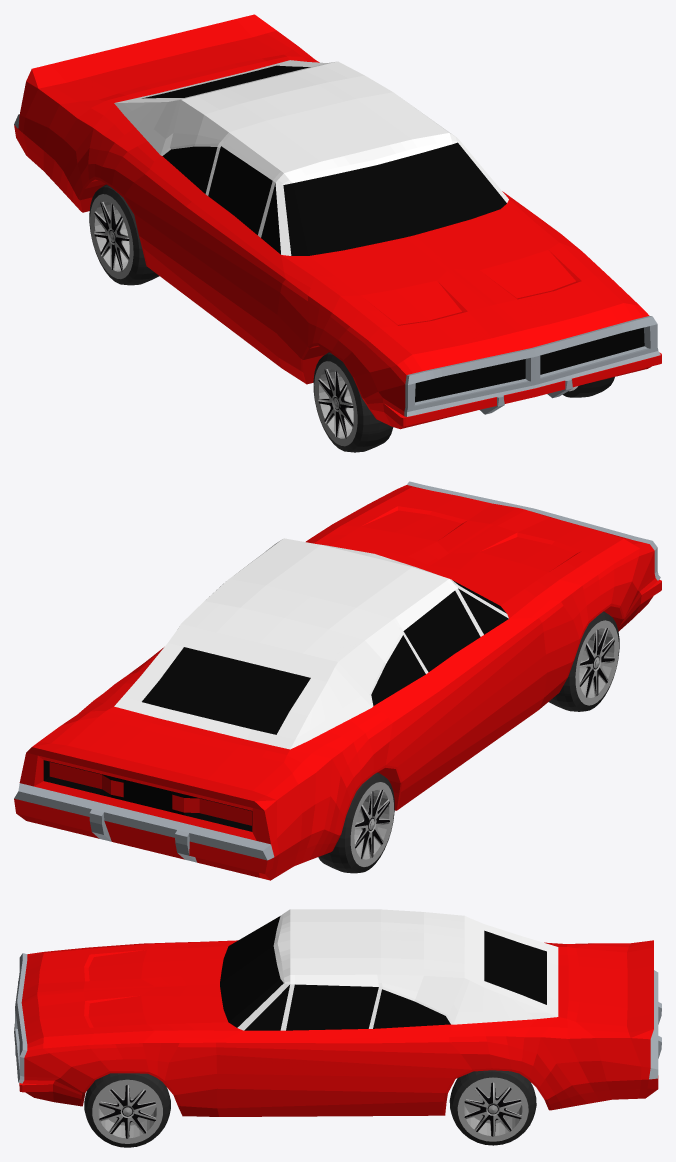
The model's file is red.gltf.
3 renders of one model, top to bottom at view 1: azimuth 30°, elevation 25°; view 2: azimuth 150°, elevation 25°; view 3: azimuth 270°, elevation 25°, orthographic. The views are drawn at different scales.
Visible parts, largest first — view 1: buffer-0-mesh-0 1, buffer-0-mesh-0, buffer-0-mesh-0 5, buffer-0-mesh-0 3, buffer-0-mesh-0 6, buffer-0-mesh-0 2, buffer-0-mesh-0 8, buffer-0-mesh-0 7; view 2: buffer-0-mesh-0 1, buffer-0-mesh-0, buffer-0-mesh-0 5, buffer-0-mesh-0 3, buffer-0-mesh-0 6, buffer-0-mesh-0 8, buffer-0-mesh-0 2, buffer-0-mesh-0 4, buffer-0-mesh-0 7; view 3: buffer-0-mesh-0 1, buffer-0-mesh-0, buffer-0-mesh-0 5, buffer-0-mesh-0 6, buffer-0-mesh-0 8, buffer-0-mesh-0 3, buffer-0-mesh-0 7.
Part boxes in pixels (x1,y1,x2,y2): buffer-0-mesh-0 1: [14, 14, 661, 429]; buffer-0-mesh-0: [114, 60, 508, 255]; buffer-0-mesh-0 5: [142, 65, 506, 255]; buffer-0-mesh-0 3: [14, 114, 660, 416]; buffer-0-mesh-0 6: [90, 194, 577, 446]; buffer-0-mesh-0 2: [415, 327, 644, 402]; buffer-0-mesh-0 8: [89, 184, 614, 452]; buffer-0-mesh-0 7: [94, 202, 353, 438]; buffer-0-mesh-0 1: [14, 485, 661, 880]; buffer-0-mesh-0: [114, 538, 508, 749]; buffer-0-mesh-0 5: [142, 580, 508, 734]; buffer-0-mesh-0 3: [14, 481, 660, 862]; buffer-0-mesh-0 6: [350, 620, 618, 866]; buffer-0-mesh-0 8: [318, 611, 619, 873]; buffer-0-mesh-0 2: [43, 760, 252, 831]; buffer-0-mesh-0 4: [49, 762, 251, 825]; buffer-0-mesh-0 7: [355, 628, 614, 858]; buffer-0-mesh-0 1: [19, 940, 658, 1116]; buffer-0-mesh-0: [237, 909, 558, 1030]; buffer-0-mesh-0 5: [220, 916, 546, 1030]; buffer-0-mesh-0 6: [92, 1077, 528, 1143]; buffer-0-mesh-0 8: [84, 1070, 536, 1147]; buffer-0-mesh-0 3: [14, 953, 661, 1083]; buffer-0-mesh-0 7: [99, 1082, 521, 1138].
Bounding box in the file's own units: 0.0395 × 0.0273 × 0.1.
